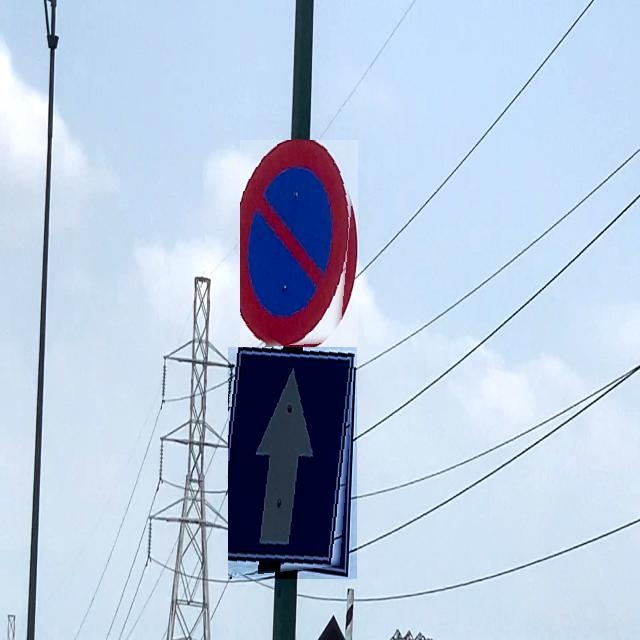bien_chi_dan: (228, 347, 357, 579), (240, 140, 358, 350)
